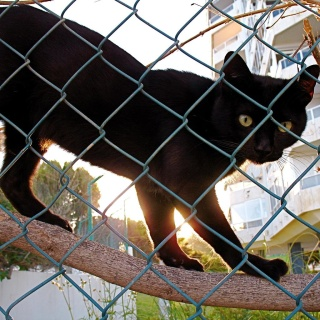Cat: (0, 2, 317, 281)
